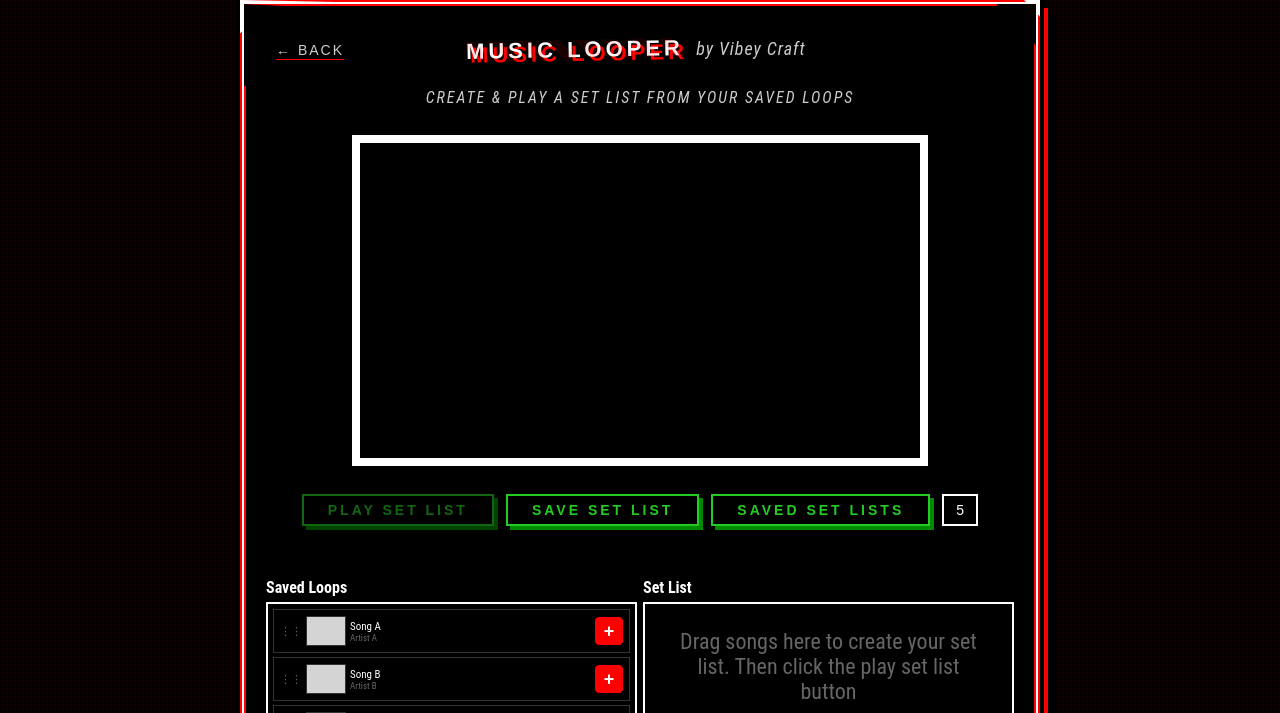
Scenario: SetList save UX › creates a new saved set list and keeps the original unchanged on Save As New Set List
The image size is (1280, 713).
Click the button "Saved Set Lists".
click(821, 510)  # box left=711, top=494, right=930, bottom=526
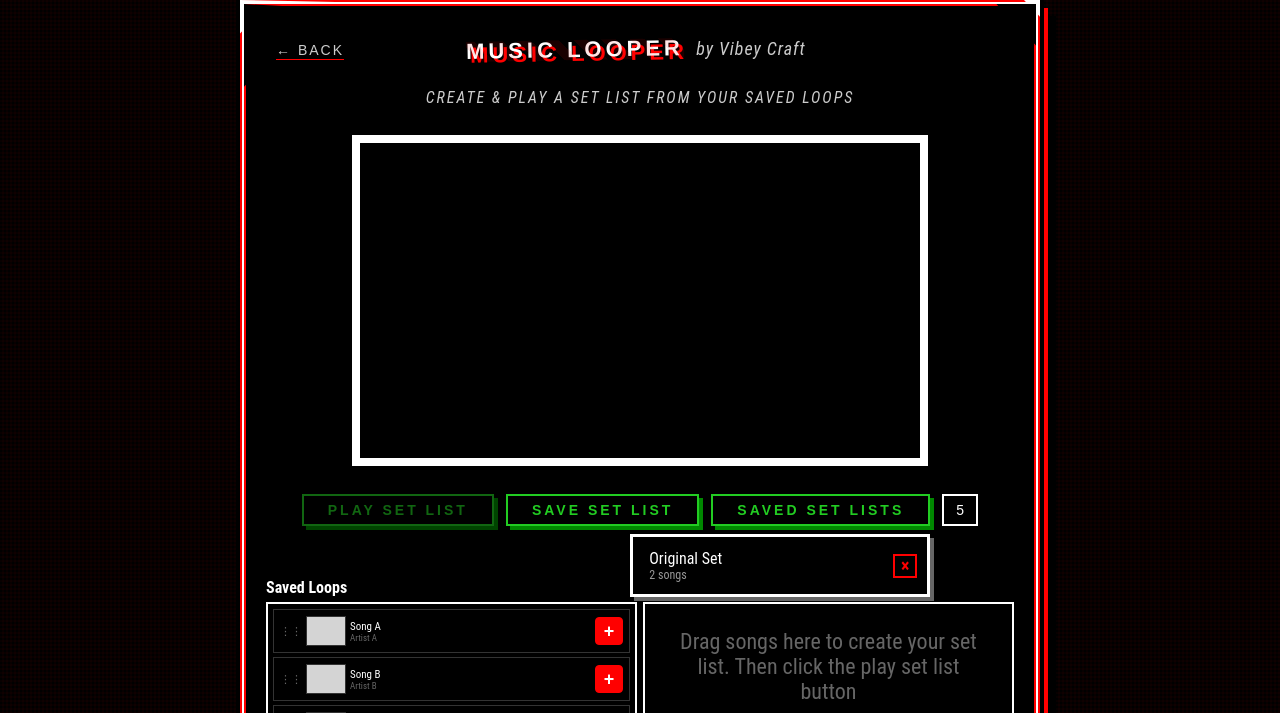
Now the text "Original Set" is shown
Click the text "Original Set".
click(686, 558)  # box left=649, top=549, right=722, bottom=568
(page scrolled)
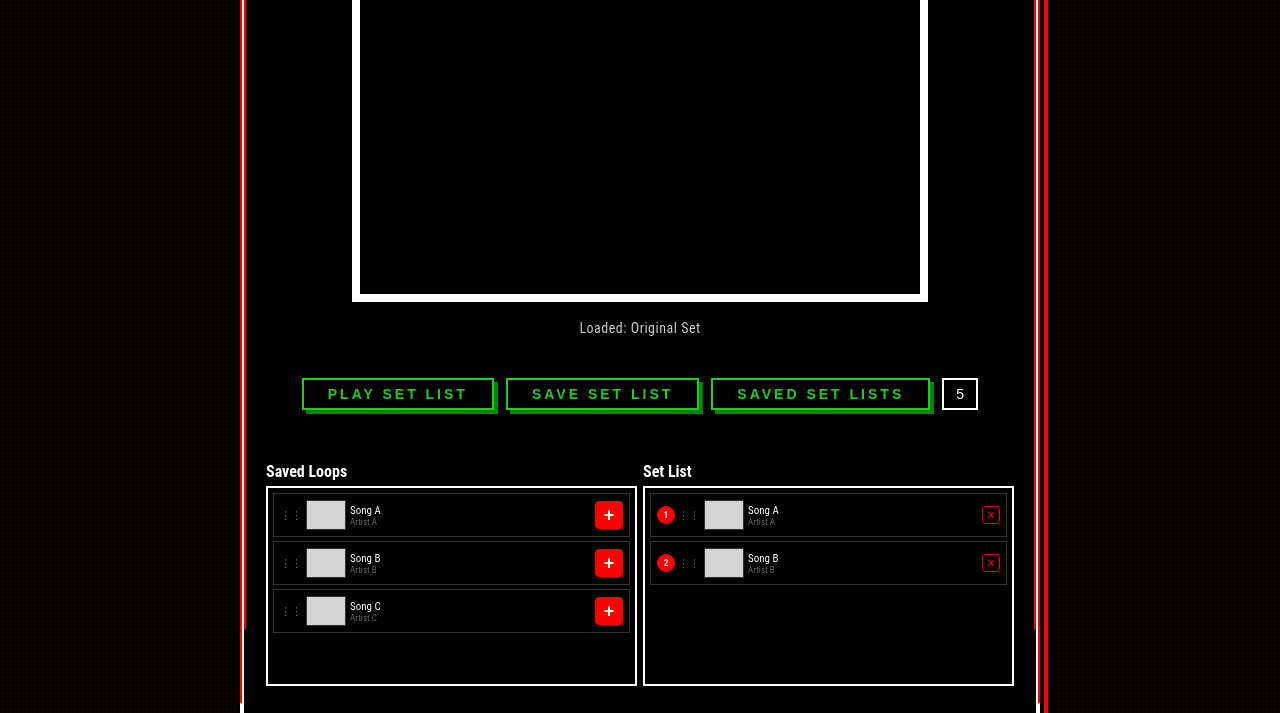
Click the button named "add song c to set list".
click(609, 611)  # box left=595, top=597, right=623, bottom=625
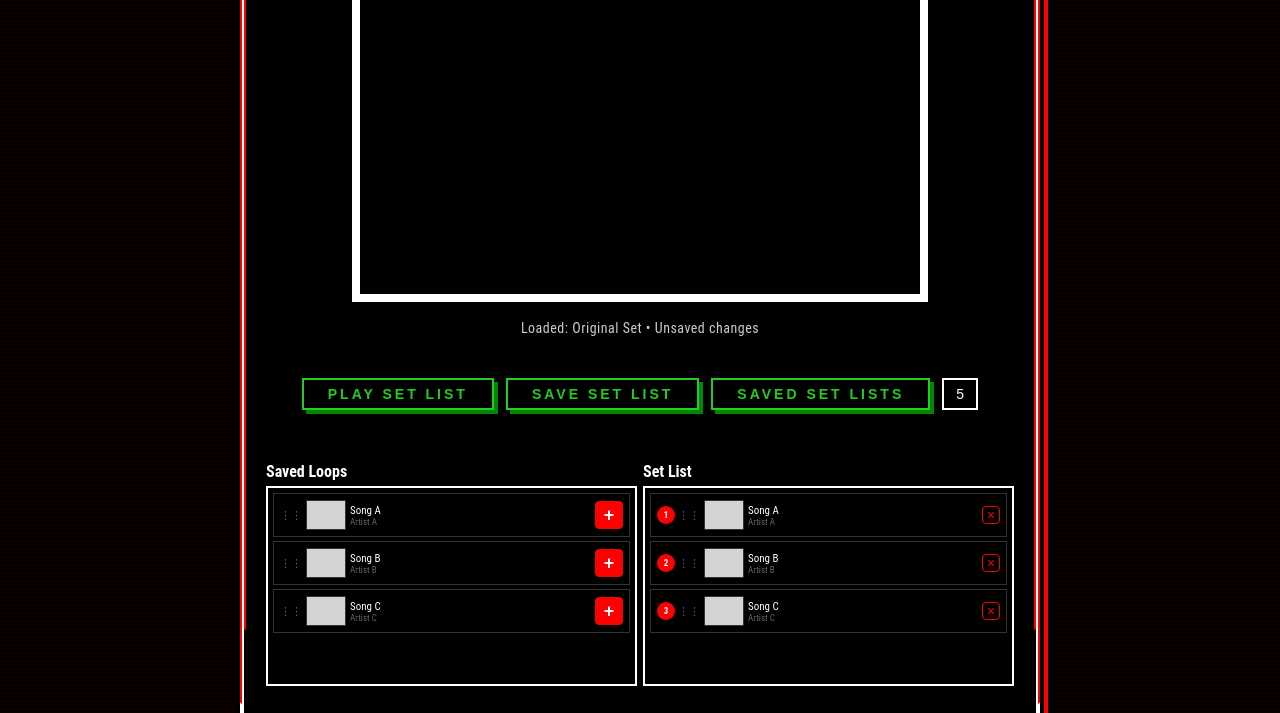
Now the text "Loaded: Original Set • Unsaved changes" is shown, box left=521, top=320, right=759, bottom=336
Click the button "Save Set List".
click(603, 394)  # box left=506, top=378, right=699, bottom=410
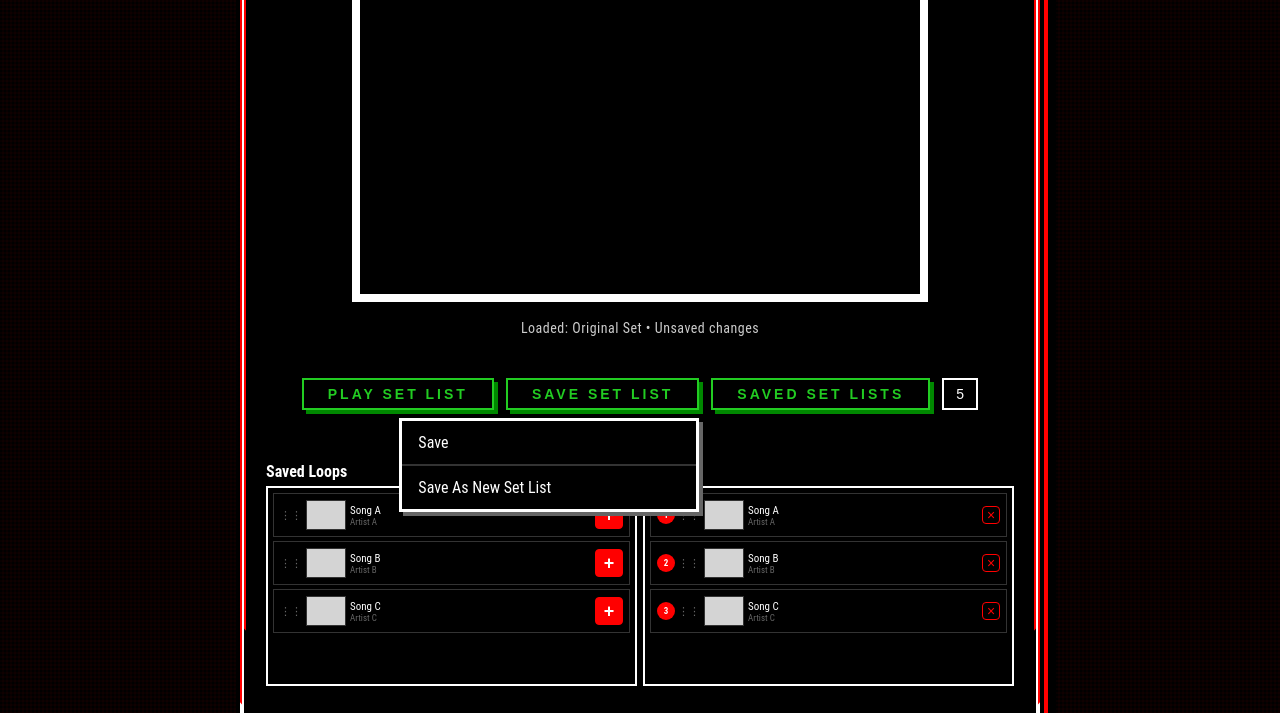
Click the button "Save As New Set List".
click(549, 488)  # box left=402, top=466, right=696, bottom=509
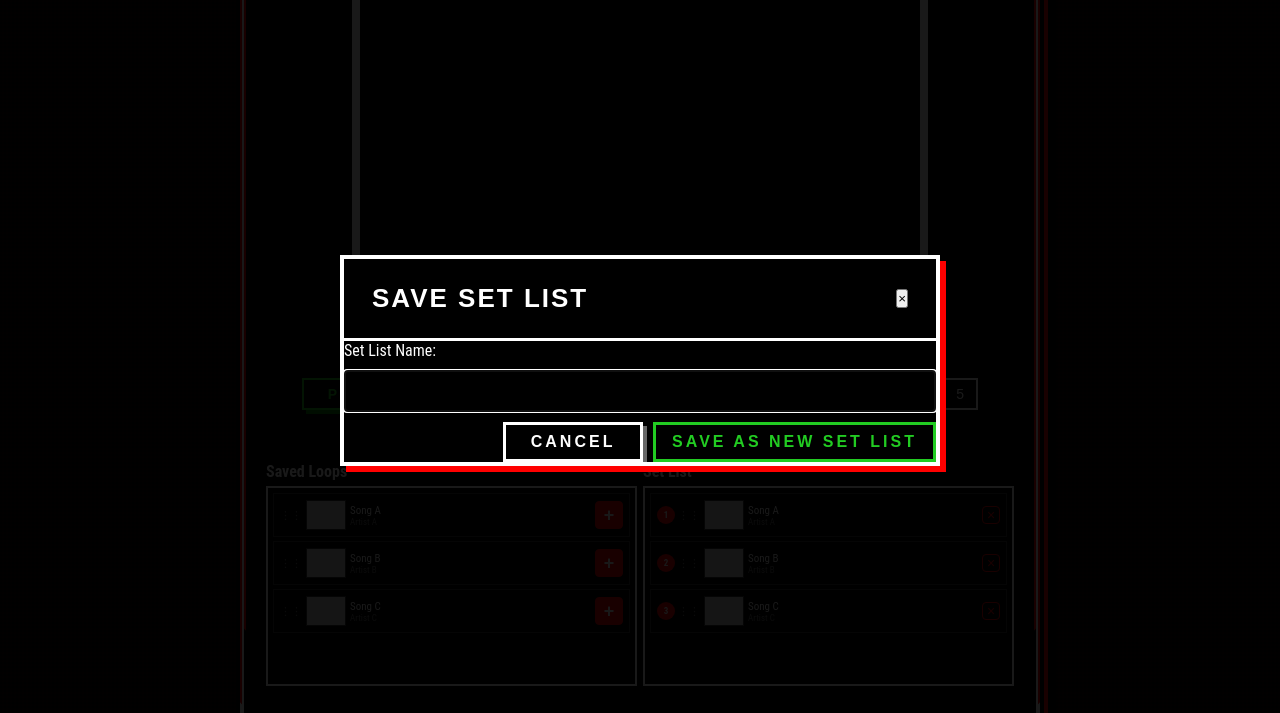
Type "Expanded Set" into the field labelled "Set List Name:".
click(640, 390); type("Expanded Set")  # box left=344, top=370, right=936, bottom=412
Click the button "Save As New Set List".
click(795, 442)  # box left=653, top=422, right=936, bottom=462
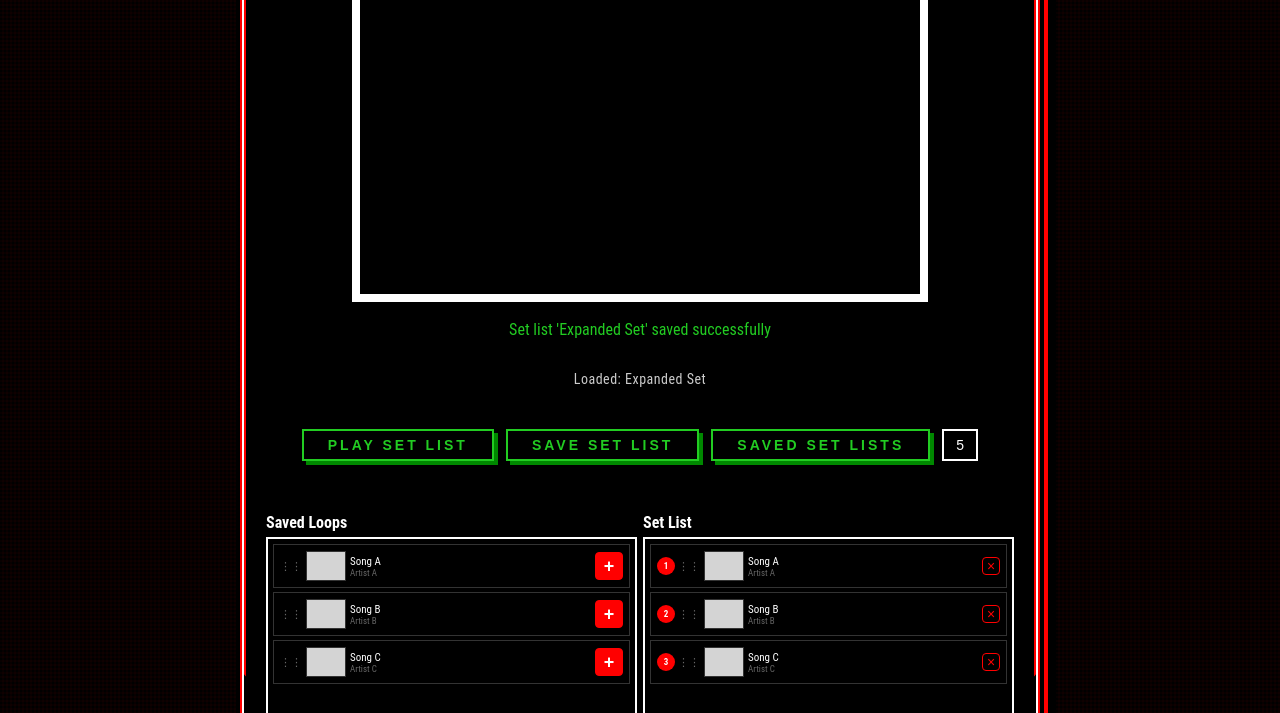
Now the text "Loaded: Expanded Set" is shown, box left=574, top=371, right=706, bottom=387
Now the text "Unsaved changes" is gone
